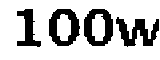0: (47, 3, 80, 51), (83, 3, 114, 49)
1: (11, 6, 41, 54)
w: (114, 12, 160, 51)
